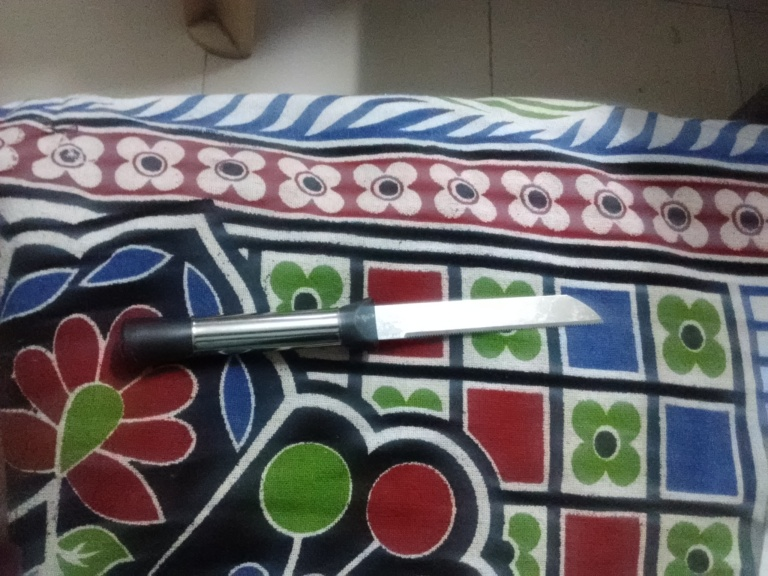knife: (111, 290, 614, 366)
